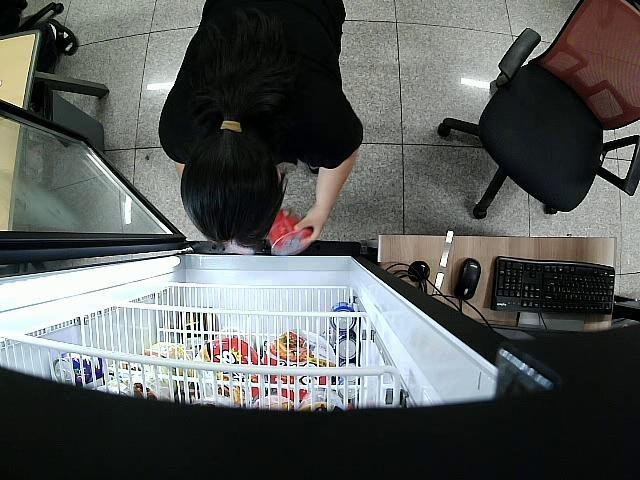01_ShinRamen_L: (268, 209, 314, 256)
